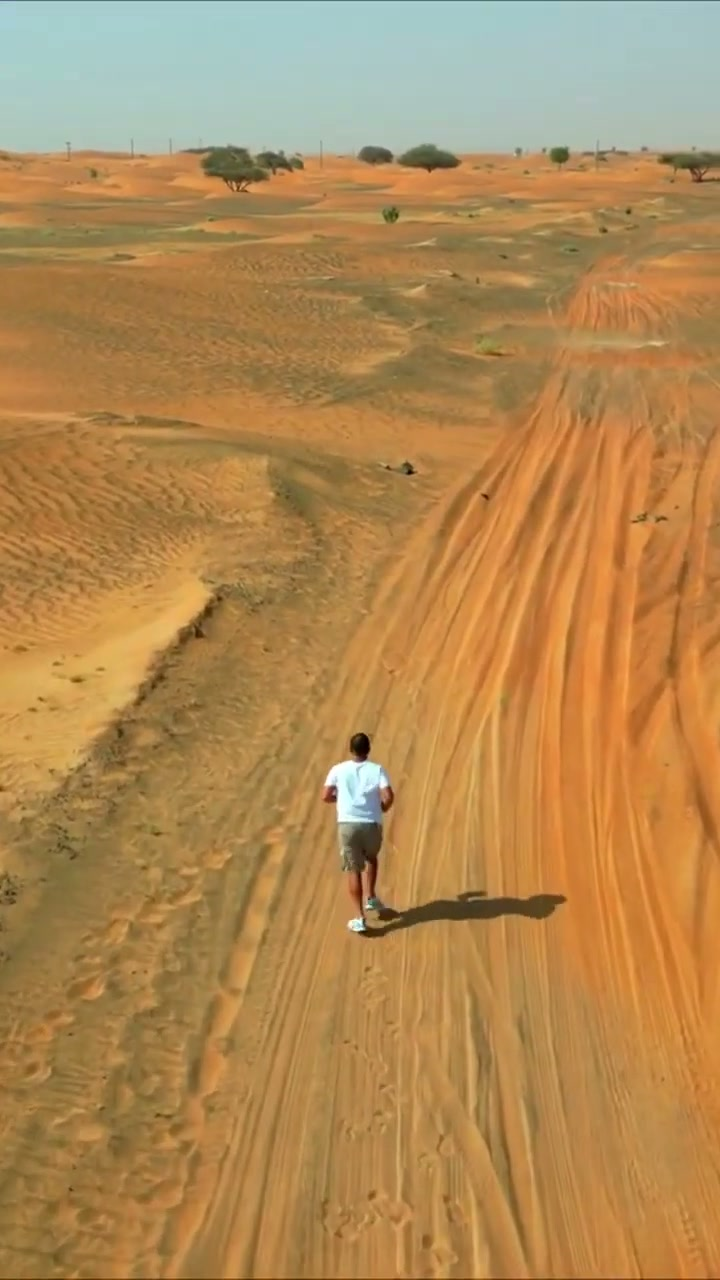human: (322, 732, 393, 932)
vehicle_track: (458, 355, 719, 1250)
